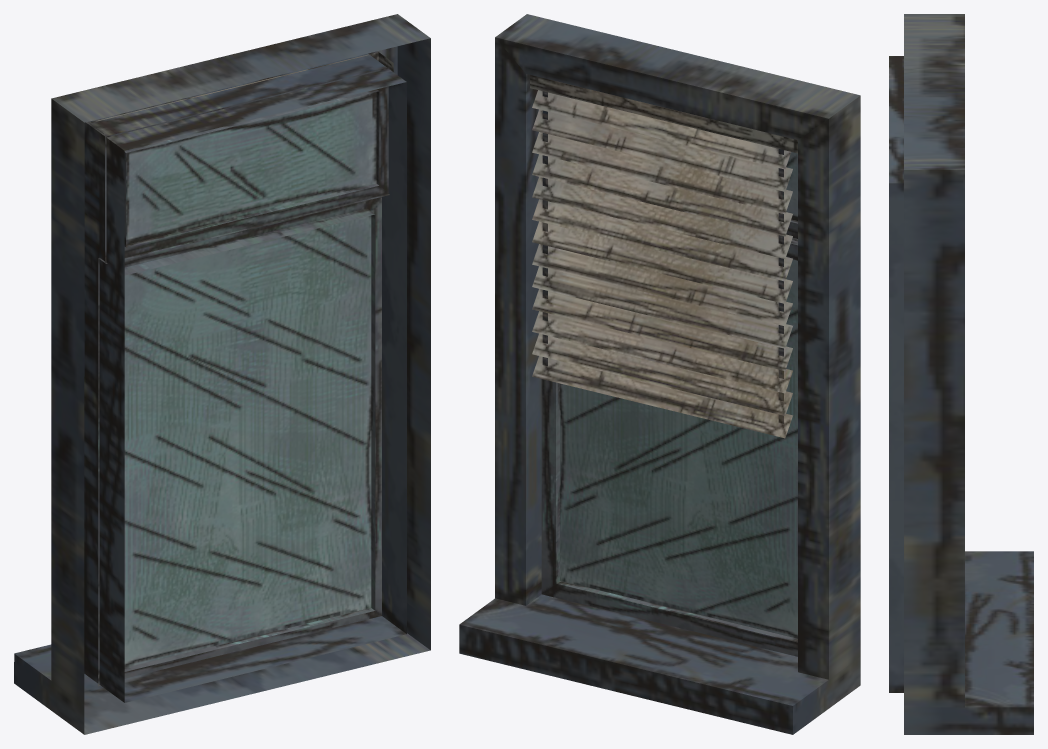
Rendered from window.fbx.
3 renders of one model, left to right at view 1: azimuth 30°, elevation 25°; view 2: azimuth 150°, elevation 25°; view 3: azimuth 270°, elevation 25°, orthographic. The views are drawn at different scales.
Visible parts, largest first — view 1: Boxes.020; view 2: Boxes.020; view 3: Boxes.020.
Boxes of the visible parts, x1,y1,x2,y2 form: Boxes.020: [14, 14, 430, 734]; Boxes.020: [459, 14, 860, 734]; Boxes.020: [889, 14, 1033, 734].
Bounding box in the file's own units: 106 × 179 × 41.56.
